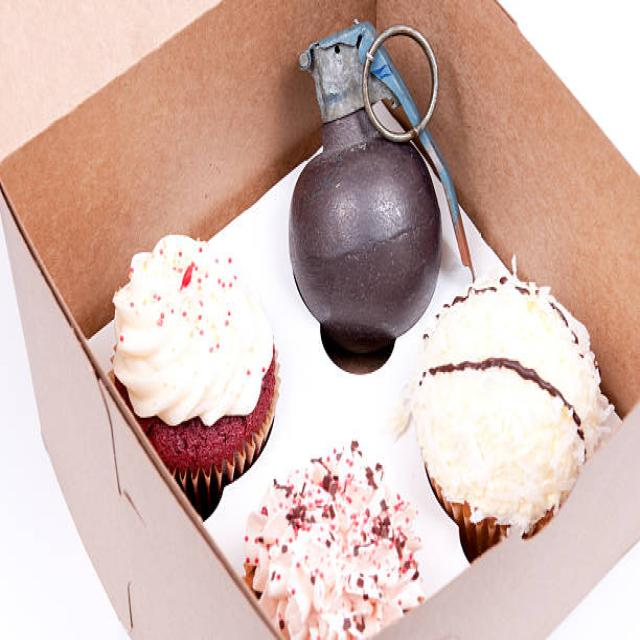grenade: (288, 19, 480, 351)
